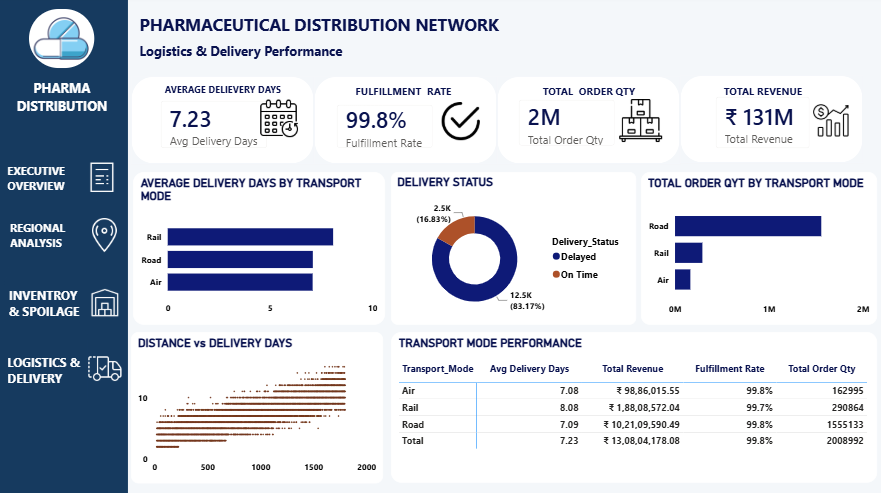

This screenshot's page, from the dashboard's own definition file:
{"tool":"powerbi","page":{"name":"Logistics & Delivery Performance","canvas":[1280,720],"ordinal":3},"visuals":[{"type":"shape","box":[0,0,190.1,720],"z":0},{"type":"image","box":[47.5,18.7,93.6,85],"z":1000},{"type":"textbox","box":[14.4,115.2,161.3,61.9],"z":2000},{"type":"textbox","box":[201.6,18.7,544.3,43.2],"z":3000},{"type":"textbox","box":[201.6,61.9,311,41.8],"z":4000},{"type":"shape","box":[194.4,115.2,263.5,126.7],"z":5000},{"type":"shape","box":[457.9,115.2,263.5,126.7],"z":6000},{"type":"shape","box":[721.4,115.2,263.5,126.7],"z":7000},{"type":"shape","box":[985,113.8,263.5,126.7],"z":8000},{"type":"cardVisual","fields":{"Data":["Performance_Metrics.Avg Delivery Days"]},"box":[220.3,133.9,187.2,102.2],"z":9000},{"type":"textbox","box":[231.8,121,190.1,36],"z":10000},{"type":"cardVisual","fields":{"Data":["Performance_Metrics.Fulfillment Rate"]},"box":[473.8,139.7,172.8,96.5],"z":11000},{"type":"textbox","box":[512.6,121,159.8,36],"z":12000},{"type":"cardVisual","fields":{"Data":["Performance_Metrics.Total Order Qty"]},"box":[735.8,132.5,172.8,100.8],"z":13000},{"type":"cardVisual","fields":{"Data":["Performance_Metrics.Total Revenue"]},"box":[1019.5,128.2,169.9,108],"z":14000},{"type":"textbox","box":[1038.2,121,132.5,44.6],"z":15000},{"type":"textbox","box":[779,121,149.8,59],"z":16000},{"type":"image","box":[378.7,138.2,57.6,76.3],"z":17000},{"type":"image","box":[617.8,152.6,103.7,54.7],"z":18000},{"type":"image","box":[868.3,148.3,119.5,61.9],"z":19000},{"type":"image","box":[1170.7,154.1,63.4,50.4],"z":20000},{"type":"clusteredBarChart","title":"AVERAGE DELIVERY DAYS BY TRANSPORT MODE","fields":{"Category":["Pharma_Distribution.Transport_Mode"],"Y":["Performance_Metrics.Avg Delivery Days"]},"box":[197.3,253.4,362.9,220.3],"z":21000},{"type":"donutChart","title":"DELIVERY STATUS","fields":{"Category":["Pharma_Distribution.Delivery_Status"],"Y":["CountNonNull(Pharma_Distribution.Order_ID)"]},"box":[568.8,253.4,352.8,220.3],"z":22000},{"type":"clusteredBarChart","title":"TOTAL ORDER QYT BY TRANSPORT MODE","fields":{"Category":["Pharma_Distribution.Transport_Mode"],"Y":["Performance_Metrics.Total Order Qty"]},"box":[928.8,253.4,339.8,220.3],"z":23000},{"type":"scatterChart","title":"DISTANCE vs DELIVERY DAYS","fields":{"X":["Sum(Pharma_Distribution.Distance_km)"],"Y":["Sum(Pharma_Distribution.Delivery_Days)"],"Category":["Pharma_Distribution.Order_ID"]},"box":[194.4,483.8,363,218],"z":24000},{"type":"pivotTable","title":"TRANSPORT MODE PERFORMANCE","fields":{"Rows":["Pharma_Distribution.Transport_Mode"],"Values":["Performance_Metrics.Avg Delivery Days","Performance_Metrics.Total Revenue","Performance_Metrics.Fulfillment Rate","Performance_Metrics.Total Order Qty"]},"box":[568.8,483.8,699.8,217.4],"z":25000},{"type":"shape","box":[11.5,229,121,66.2],"z":25001},{"type":"shape","box":[11.5,285.1,141.1,118.1],"z":25002},{"type":"shape","box":[11.5,393.1,129.6,97.9],"z":25003},{"type":"shape","box":[7.2,463.7,125.3,148.3],"z":25004},{"type":"image","box":[129.6,229,46.1,63.4],"z":25005},{"type":"image","box":[129.6,315.4,53.3,56.2],"z":25006},{"type":"image","box":[123.8,419,66.2,44.6],"z":25007},{"type":"image","box":[123.8,511.2,66.2,47.5],"z":25008}]}

Visuals, with their boxes in screenshot pixels (x1, y1, x2, y2), scaled from the page's 1280x720 canvas onto the 881x493 screenshot:
shape: Rect(0, 0, 131, 492)
image: Rect(33, 13, 97, 71)
textbox: Rect(10, 79, 121, 121)
textbox: Rect(139, 13, 513, 42)
textbox: Rect(139, 42, 353, 71)
shape: Rect(134, 79, 315, 166)
shape: Rect(315, 79, 497, 166)
shape: Rect(497, 79, 678, 166)
shape: Rect(678, 78, 859, 165)
cardVisual - Performance_Metrics.Avg Delivery Days: Rect(152, 92, 280, 162)
textbox: Rect(160, 83, 290, 108)
cardVisual - Performance_Metrics.Fulfillment Rate: Rect(326, 96, 445, 162)
textbox: Rect(353, 83, 463, 108)
cardVisual - Performance_Metrics.Total Order Qty: Rect(506, 91, 625, 160)
cardVisual - Performance_Metrics.Total Revenue: Rect(702, 88, 819, 162)
textbox: Rect(715, 83, 806, 113)
textbox: Rect(536, 83, 639, 123)
image: Rect(261, 95, 300, 147)
image: Rect(425, 104, 497, 142)
image: Rect(598, 102, 680, 144)
image: Rect(806, 106, 849, 140)
"AVERAGE DELIVERY DAYS BY TRANSPORT MODE" clusteredBarChart: Rect(136, 174, 386, 324)
"DELIVERY STATUS" donutChart: Rect(391, 174, 634, 324)
"TOTAL ORDER QYT BY TRANSPORT MODE" clusteredBarChart: Rect(639, 174, 873, 324)
"DISTANCE vs DELIVERY DAYS" scatterChart: Rect(134, 331, 384, 481)
"TRANSPORT MODE PERFORMANCE" pivotTable: Rect(391, 331, 873, 480)
shape: Rect(8, 157, 91, 202)
shape: Rect(8, 195, 105, 276)
shape: Rect(8, 269, 97, 336)
shape: Rect(5, 318, 91, 419)
image: Rect(89, 157, 121, 200)
image: Rect(89, 216, 126, 254)
image: Rect(85, 287, 131, 317)
image: Rect(85, 350, 131, 383)
